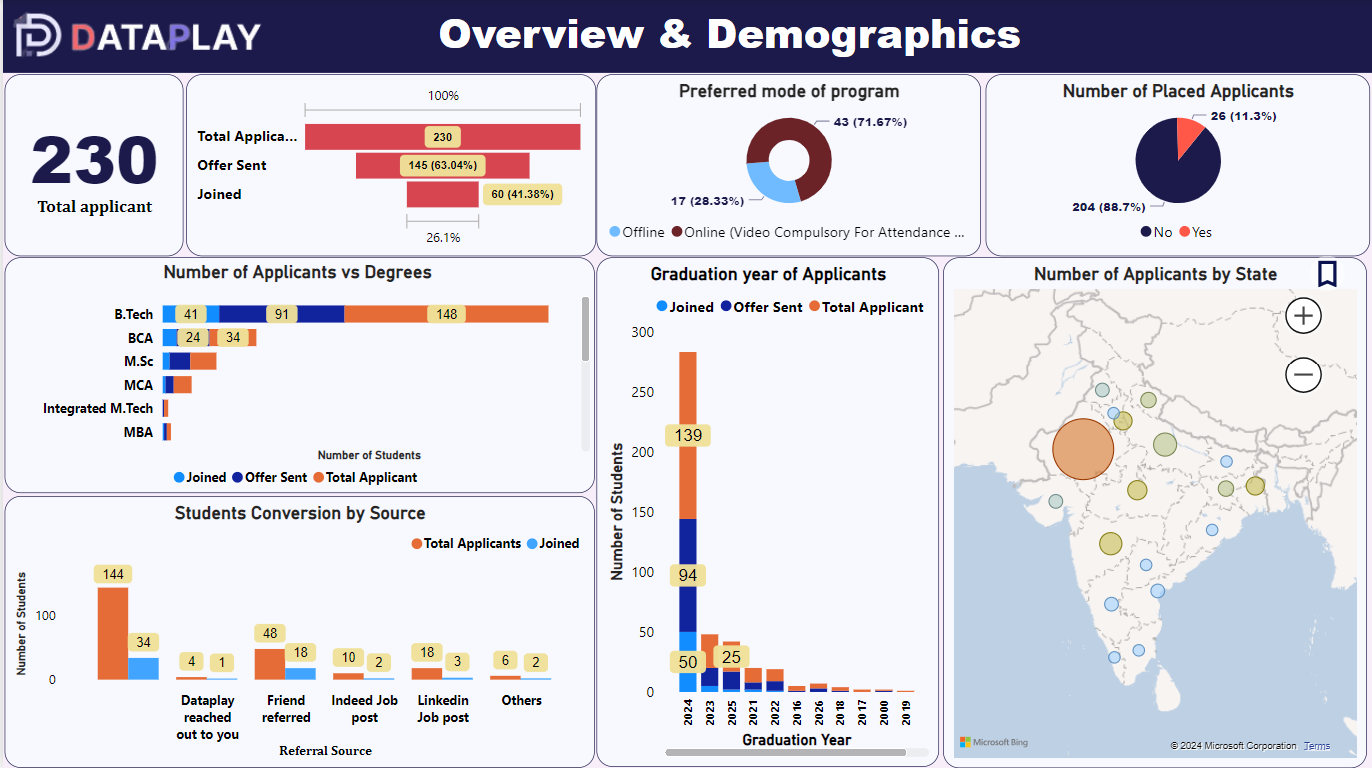

Layout of this report page (visuals, bound fields, positions):
{"tool":"powerbi","page":{"name":"Overview and Demographics","canvas":[1280,720],"ordinal":0},"visuals":[{"type":"shape","box":[0,0,1280,69],"z":0},{"type":"card","fields":{"Values":["Count(Modified_Registration_Form_CSV.Hashed Email)"]},"box":[2,70,167.1,170],"z":1000},{"type":"pieChart","title":"Number of Placed Applicants","fields":{"Category":["Modified_Registration_Form_CSV.Already Placed"],"Y":["Count(Modified_Registration_Form_CSV.Hashed Email)"]},"box":[917,70,359,170],"z":2000},{"type":"columnChart","title":"Graduation year of Applicants","fields":{"Category":["Modified_Registration_Form_CSV.Grad Year"],"Series":["StagesView.Stages"],"Y":["Count(StagesView.Hashed Email)"]},"box":[555,242,320,476],"z":3000},{"type":"barChart","title":"Number of Applicants vs Degrees","fields":{"Category":["Modified_Registration_Form_CSV.Degree"],"Series":["StagesView.Stages"],"Y":["Count(StagesView.Hashed Email)"]},"box":[2,242,551,220],"z":4000},{"type":"clusteredColumnChart","title":"Students Conversion by Source","fields":{"Category":["Modified_Registration_Form_CSV.Referral Source"],"Y":["Attendance.Total Applicants","CountNonNull(Joined Per state.Hashed Email)"]},"box":[2,464,551,254],"z":5000},{"type":"map","title":"Number of Applicants by State","fields":{"Category":["Modified_Registration_Form_CSV.State"],"Size":["CountNonNull(Modified_Registration_Form_CSV.Hashed Email)"]},"box":[878.6,241.4,396,477.1],"z":6000},{"type":"funnel","fields":{"Y":["CountNonNull(StagesView.Hashed Email)"],"Category":["StagesView.Stages"]},"box":[171,70,382.9,170],"z":7000},{"type":"actionButton","box":[1220.4,239.2,33.3,33.3],"z":9000},{"type":"donutChart","title":"Preferred mode of program","fields":{"Y":["CountNonNull(Mode Of Preference.Hashed Email)"],"Category":["Mode Of Preference.Program Mode"]},"box":[555,70,359,170],"z":11000},{"type":"textbox","box":[396.7,0,563.3,68.1],"z":12000},{"type":"image","box":[1.5,6.1,246.8,57.5],"z":13000}]}

Visuals, with their boxes in screenshot pixels (x1, y1, x2, y2), scaled from the page's 1280x720 canvas onto the 1372x768 screenshot:
shape: [0, 0, 1371, 74]
card - Count(Modified_Registration_Form_CSV.Hashed Email): [2, 75, 181, 256]
"Number of Placed Applicants" pieChart: [983, 75, 1368, 256]
"Graduation year of Applicants" columnChart: [595, 258, 938, 766]
"Number of Applicants vs Degrees" barChart: [2, 258, 593, 493]
"Students Conversion by Source" clusteredColumnChart: [2, 495, 593, 766]
"Number of Applicants by State" map: [942, 257, 1366, 766]
funnel - CountNonNull(StagesView.Hashed Email) x StagesView.Stages: [183, 75, 594, 256]
actionButton: [1308, 255, 1344, 291]
"Preferred mode of program" donutChart: [595, 75, 980, 256]
textbox: [425, 0, 1029, 73]
image: [2, 7, 266, 68]
